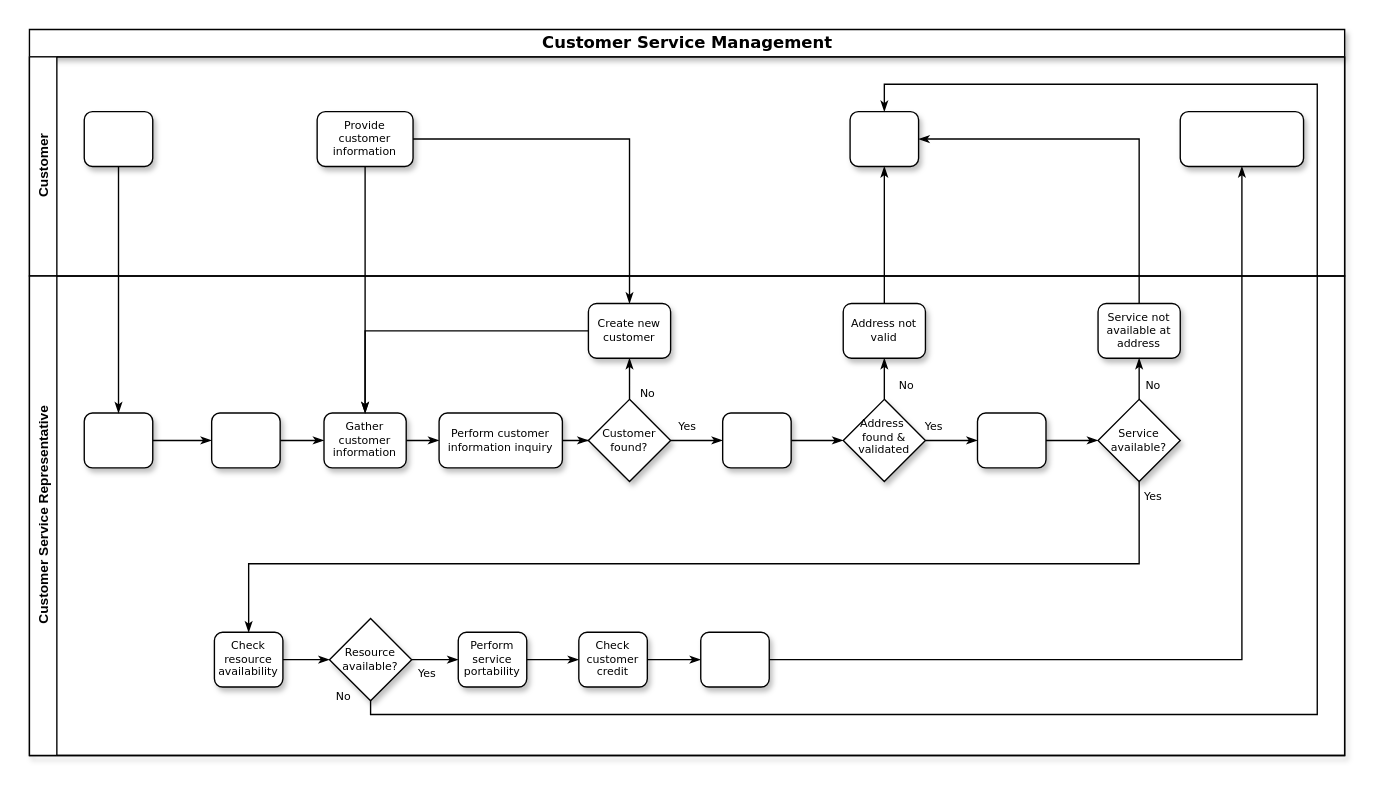
This 1377x789 diagram has some shape labels left out. Each missing label, with the centre of its shape:
"Check address" goes at pixel 757 441.
"Check service availability" goes at pixel 1012 441.
"Consolidated pre-order validation results" goes at pixel 1242 140.
"Notify customer" goes at pixel 885 140.
"Pre-order validation results" goes at pixel 735 661.
"Receive service request" goes at pixel 119 441.
"Request service" goes at pixel 119 140.
"Select service package" goes at pixel 246 441.
